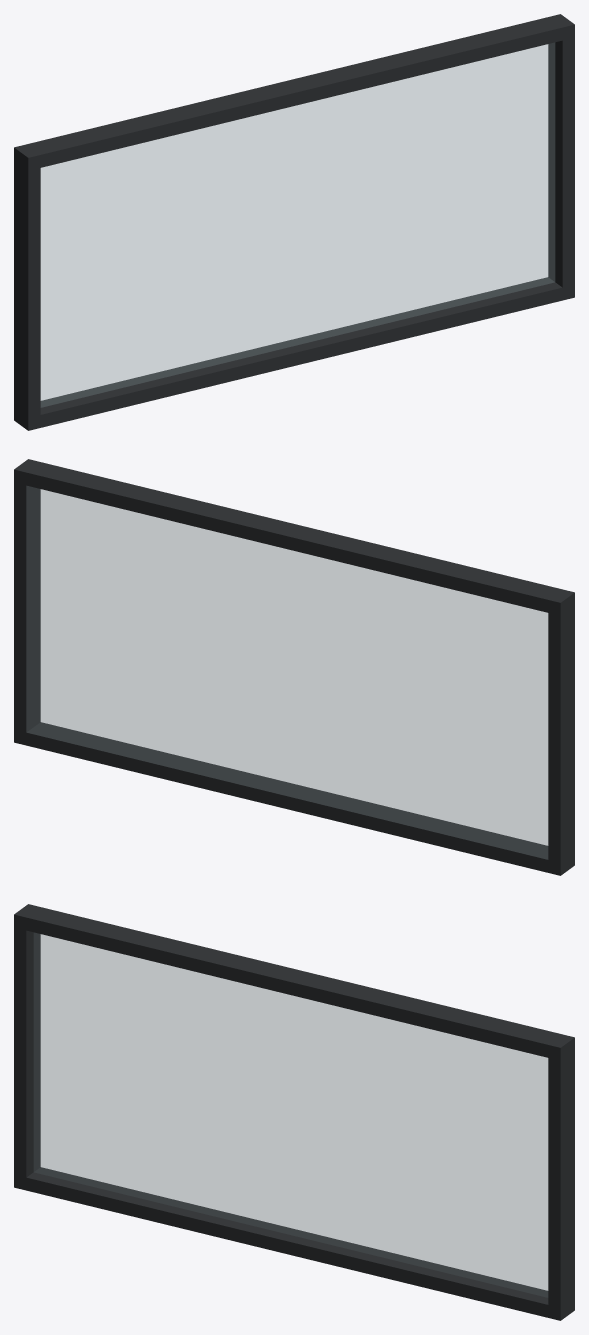
Rendered from caravan_window_large.glb.
The picture shows the model from 3 angles, top to bottom: view 1: azimuth 30°, elevation 25°; view 2: azimuth 150°, elevation 25°; view 3: azimuth 330°, elevation 25°; orthographic projection.
Parts seen in each view (by area): view 1: body:compound; view 2: body:compound; view 3: body:compound.
Boxes of the visible parts, x1=… form: body:compound: x1=14, y1=14, x2=574, y2=430; body:compound: x1=14, y1=459, x2=574, y2=875; body:compound: x1=14, y1=904, x2=574, y2=1320.
Bounding box in the file's own units: 1.38 × 0.6562 × 0.0625.
